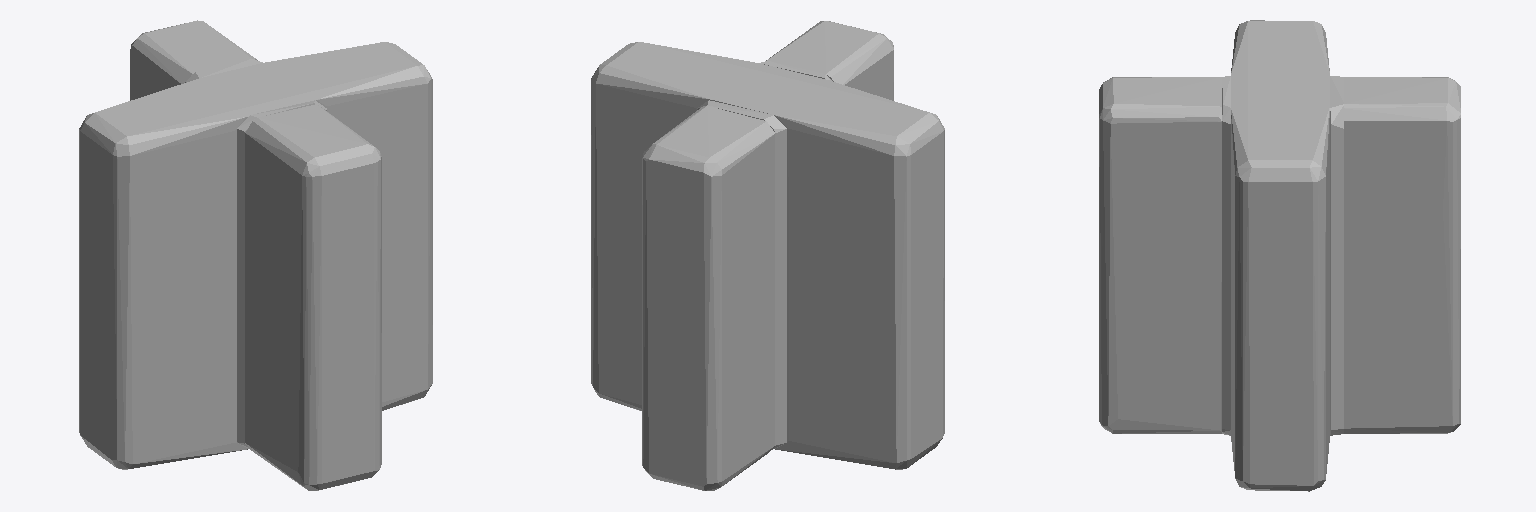
robot.urdf — root:
<robot name="root">
  <link name="link_cross_convex_piece_0">
    <inertial>
      <origin xyz="0 0 0" rpy="0 0 0"/>
      <mass value="2.42E-03"/>
      <inertia ixx="1.59E-06" ixy="1.56E-09" ixz="4.26E-10" iyy="1.34E-06" iyz="-8.24E-10" izz="4.30E-07"/>
    </inertial>
    <visual>
      <origin xyz="0 0 0" rpy="0 0 0"/>
      <geometry>
        <mesh filename="cross_convex_piece_0.obj" scale="1.0000E+00 1.0000E+00 1.0000E+00"/>
      </geometry>
      <material name="">
        <color rgba="7.50E-01 7.50E-01 7.50E-01 1"/>
      </material>
    </visual>
    <collision>
      <origin xyz="0 0 0" rpy="0 0 0"/>
      <geometry>
        <mesh filename="cross_convex_piece_0.obj" scale="1.0000E+00 1.0000E+00 1.0000E+00"/>
      </geometry>
    </collision>
  </link>
  <link name="link_cross_convex_piece_1">
    <inertial>
      <origin xyz="0 0 0" rpy="0 0 0"/>
      <mass value="3.14E-02"/>
      <inertia ixx="3.95E-05" ixy="-3.59E-08" ixz="-3.76E-10" iyy="1.73E-05" iyz="2.31E-08" izz="2.43E-05"/>
    </inertial>
    <visual>
      <origin xyz="0 0 0" rpy="0 0 0"/>
      <geometry>
        <mesh filename="cross_convex_piece_1.obj" scale="1.0000E+00 1.0000E+00 1.0000E+00"/>
      </geometry>
      <material name="">
        <color rgba="7.50E-01 7.50E-01 7.50E-01 1"/>
      </material>
    </visual>
    <collision>
      <origin xyz="0 0 0" rpy="0 0 0"/>
      <geometry>
        <mesh filename="cross_convex_piece_1.obj" scale="1.0000E+00 1.0000E+00 1.0000E+00"/>
      </geometry>
    </collision>
  </link>
  <joint name="link_cross_convex_piece_1_joint" type="fixed">
    <origin xyz="0 0 0" rpy="0 0 0"/>
    <parent link="link_cross_convex_piece_0"/>
    <child link="link_cross_convex_piece_1"/>
  </joint>
  <link name="link_cross_convex_piece_2">
    <inertial>
      <origin xyz="0 0 0" rpy="0 0 0"/>
      <mass value="2.97E-02"/>
      <inertia ixx="3.80E-05" ixy="1.25E-08" ixz="-1.04E-08" iyy="1.63E-05" iyz="-1.41E-08" izz="2.36E-05"/>
    </inertial>
    <visual>
      <origin xyz="0 0 0" rpy="0 0 0"/>
      <geometry>
        <mesh filename="cross_convex_piece_2.obj" scale="1.0000E+00 1.0000E+00 1.0000E+00"/>
      </geometry>
      <material name="">
        <color rgba="7.50E-01 7.50E-01 7.50E-01 1"/>
      </material>
    </visual>
    <collision>
      <origin xyz="0 0 0" rpy="0 0 0"/>
      <geometry>
        <mesh filename="cross_convex_piece_2.obj" scale="1.0000E+00 1.0000E+00 1.0000E+00"/>
      </geometry>
    </collision>
  </link>
  <joint name="link_cross_convex_piece_2_joint" type="fixed">
    <origin xyz="0 0 0" rpy="0 0 0"/>
    <parent link="link_cross_convex_piece_1"/>
    <child link="link_cross_convex_piece_2"/>
  </joint>
  <link name="link_cross_convex_piece_3">
    <inertial>
      <origin xyz="0 0 0" rpy="0 0 0"/>
      <mass value="3.86E-03"/>
      <inertia ixx="2.60E-06" ixy="-2.47E-09" ixz="1.20E-09" iyy="2.14E-06" iyz="1.12E-09" izz="7.39E-07"/>
    </inertial>
    <visual>
      <origin xyz="0 0 0" rpy="0 0 0"/>
      <geometry>
        <mesh filename="cross_convex_piece_3.obj" scale="1.0000E+00 1.0000E+00 1.0000E+00"/>
      </geometry>
      <material name="">
        <color rgba="7.50E-01 7.50E-01 7.50E-01 1"/>
      </material>
    </visual>
    <collision>
      <origin xyz="0 0 0" rpy="0 0 0"/>
      <geometry>
        <mesh filename="cross_convex_piece_3.obj" scale="1.0000E+00 1.0000E+00 1.0000E+00"/>
      </geometry>
    </collision>
  </link>
  <joint name="link_cross_convex_piece_3_joint" type="fixed">
    <origin xyz="0 0 0" rpy="0 0 0"/>
    <parent link="link_cross_convex_piece_2"/>
    <child link="link_cross_convex_piece_3"/>
  </joint>
  <link name="link_cross_convex_piece_4">
    <inertial>
      <origin xyz="0 0 0" rpy="0 0 0"/>
      <mass value="9.87E-02"/>
      <inertia ixx="5.52E-05" ixy="-9.83E-09" ixz="6.82E-09" iyy="1.01E-04" iyz="-1.59E-08" izz="5.32E-05"/>
    </inertial>
    <visual>
      <origin xyz="0 0 0" rpy="0 0 0"/>
      <geometry>
        <mesh filename="cross_convex_piece_4.obj" scale="1.0000E+00 1.0000E+00 1.0000E+00"/>
      </geometry>
      <material name="">
        <color rgba="7.50E-01 7.50E-01 7.50E-01 1"/>
      </material>
    </visual>
    <collision>
      <origin xyz="0 0 0" rpy="0 0 0"/>
      <geometry>
        <mesh filename="cross_convex_piece_4.obj" scale="1.0000E+00 1.0000E+00 1.0000E+00"/>
      </geometry>
    </collision>
  </link>
  <joint name="link_cross_convex_piece_4_joint" type="fixed">
    <origin xyz="0 0 0" rpy="0 0 0"/>
    <parent link="link_cross_convex_piece_3"/>
    <child link="link_cross_convex_piece_4"/>
  </joint>
</robot>

--- Facts derived from the render (not from the file) ---
Views: 3 orthographic renders of the robot side by side, from view 1: azimuth 30°, elevation 25°; view 2: azimuth 150°, elevation 25°; view 3: azimuth 270°, elevation 25°.
Robot: root — 5 links, 4 joints (4 fixed); root link link_cross_convex_piece_0; default pose: every joint at zero.
Visible links, largest first — view 1: link_cross_convex_piece_4, link_cross_convex_piece_1, link_cross_convex_piece_2, link_cross_convex_piece_0; view 2: link_cross_convex_piece_4, link_cross_convex_piece_2, link_cross_convex_piece_1, link_cross_convex_piece_3; view 3: link_cross_convex_piece_4, link_cross_convex_piece_1, link_cross_convex_piece_2, link_cross_convex_piece_3, link_cross_convex_piece_0.
Link boxes in pixels (x1,y1,x2,y2): link_cross_convex_piece_4: (79,42,432,469); link_cross_convex_piece_1: (245,104,381,490); link_cross_convex_piece_2: (130,20,257,100); link_cross_convex_piece_0: (237,100,326,447); link_cross_convex_piece_4: (591,42,944,469); link_cross_convex_piece_2: (642,106,774,490); link_cross_convex_piece_1: (766,21,893,100); link_cross_convex_piece_3: (697,100,786,449); link_cross_convex_piece_4: (1231,20,1329,491); link_cross_convex_piece_1: (1099,77,1221,433); link_cross_convex_piece_2: (1344,77,1460,433); link_cross_convex_piece_3: (1330,76,1343,435); link_cross_convex_piece_0: (1222,76,1230,435).
Bounding box of the posed robot: 0.0796 × 0.0794 × 0.0796 m (x, y, z).
5 mesh visuals loaded from 5 distinct referenced files (5 OBJ).
